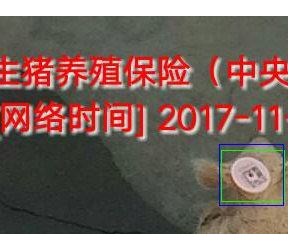text: (221, 150, 284, 201)
